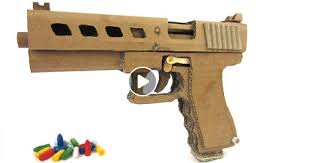Arma Falsa: (18, 2, 247, 163)
